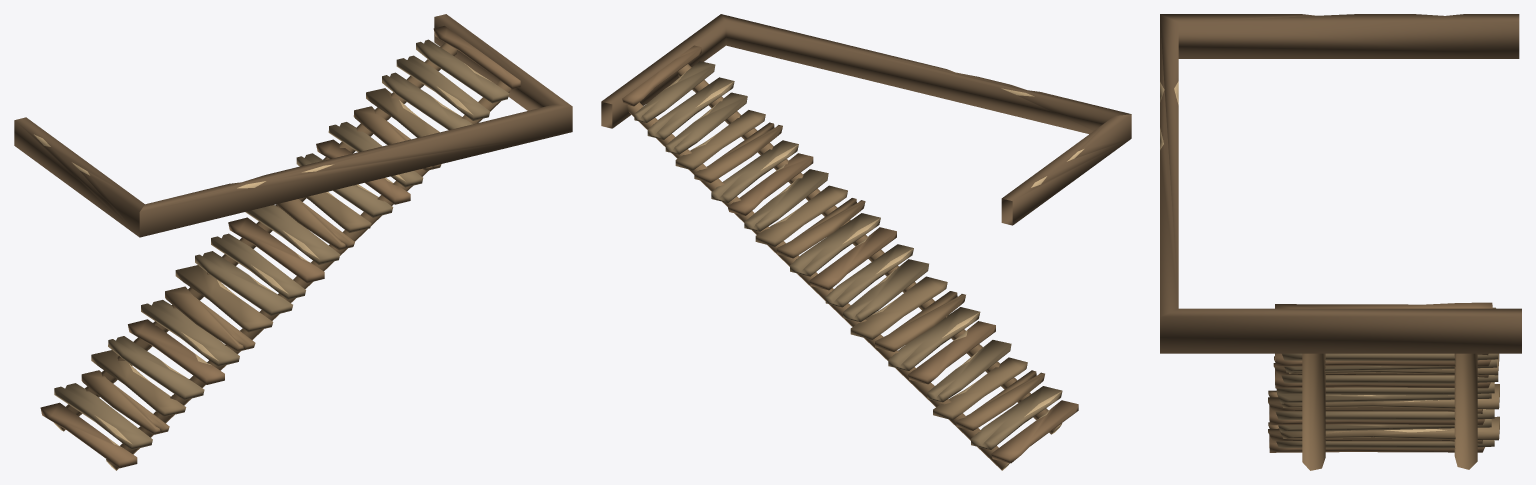
The model's file is rpgpp_ag_stairs_interior_01a_4m.fbx.
The picture shows the model from 3 angles, left to right: view 1: azimuth 30°, elevation 25°; view 2: azimuth 150°, elevation 25°; view 3: azimuth 270°, elevation 25°; orthographic projection. The views are drawn at different scales.
Visible parts, largest first — view 1: rpgpp_ag_stairs_interior_01a_4m; view 2: rpgpp_ag_stairs_interior_01a_4m; view 3: rpgpp_ag_stairs_interior_01a_4m.
Part boxes in pixels (x1=…): rpgpp_ag_stairs_interior_01a_4m: x1=14, y1=14, x2=572, y2=470; rpgpp_ag_stairs_interior_01a_4m: x1=601, y1=14, x2=1131, y2=470; rpgpp_ag_stairs_interior_01a_4m: x1=1160, y1=14, x2=1521, y2=470.
Size of the model in its own units: 6.22 by 4.18 by 3.14.
